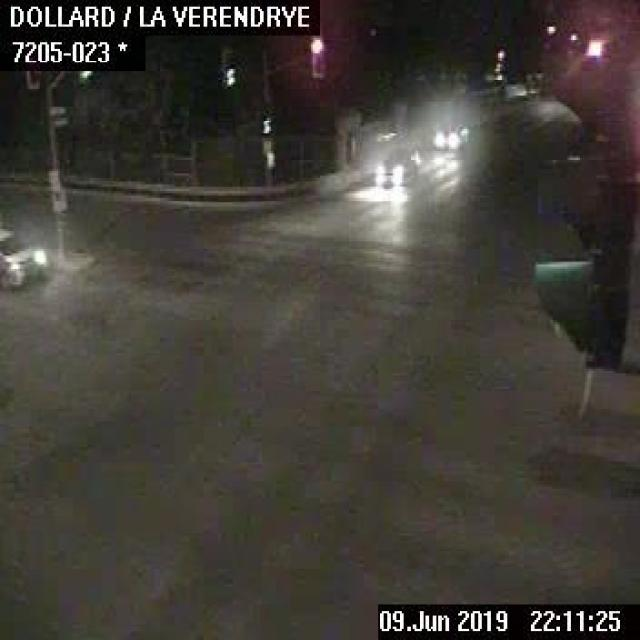vehicle: (0, 222, 47, 284), (371, 147, 422, 182), (431, 118, 469, 149)
